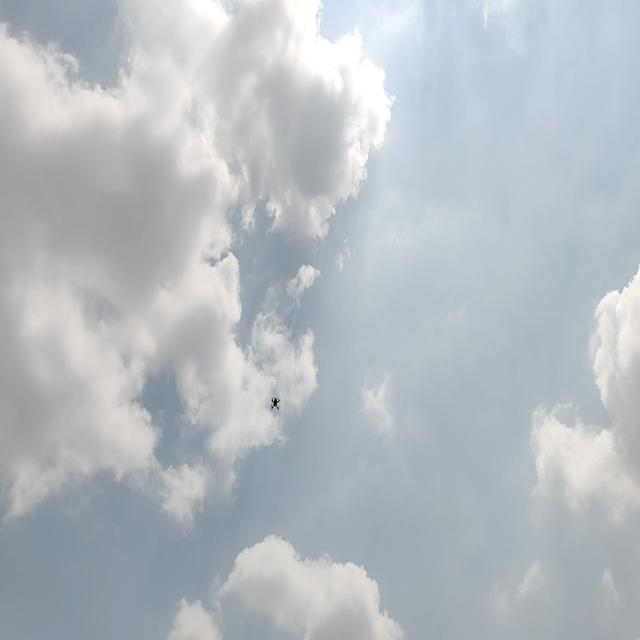drone: (268, 386, 284, 416)
